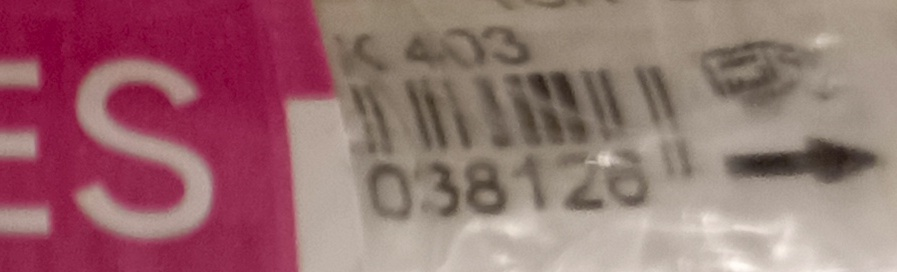1d: (325, 56, 686, 155)
